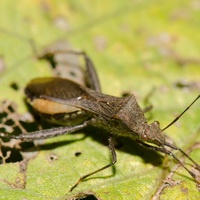insect: (0, 46, 199, 199)
